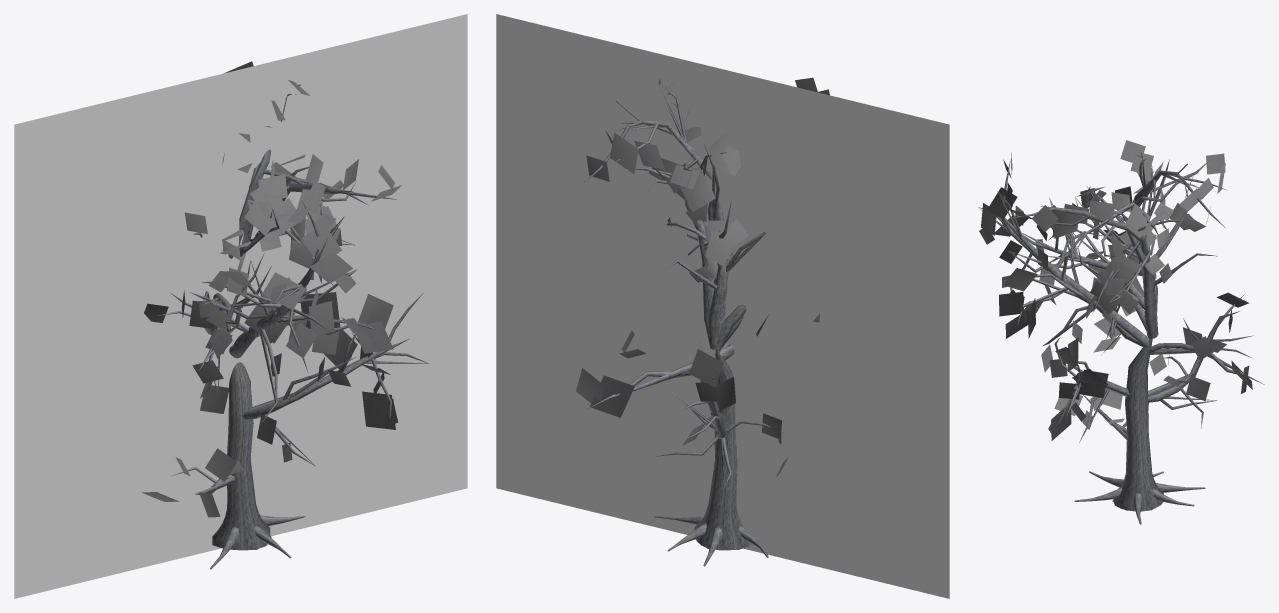
Rendered from corrompu_adulte_d.fbx.
The picture shows the model from 3 angles, left to right: view 1: azimuth 30°, elevation 25°; view 2: azimuth 150°, elevation 25°; view 3: azimuth 270°, elevation 25°; orthographic projection. The views are drawn at different scales.
Visible parts, largest first — view 1: corrompu_adulte_d_LOD3, corrompu_adulte_d_LOD1, corrompu_adulte_d_LOD2; view 2: corrompu_adulte_d_LOD3, corrompu_adulte_d_LOD1, corrompu_adulte_d_LOD2; view 3: corrompu_adulte_d_LOD1, corrompu_adulte_d_LOD2.
Part boxes in pixels (x1,y1,x2,y2): corrompu_adulte_d_LOD3: [14, 14, 467, 598]; corrompu_adulte_d_LOD1: [144, 80, 428, 569]; corrompu_adulte_d_LOD2: [141, 61, 429, 568]; corrompu_adulte_d_LOD3: [496, 14, 949, 598]; corrompu_adulte_d_LOD1: [581, 77, 829, 566]; corrompu_adulte_d_LOD2: [576, 81, 768, 566]; corrompu_adulte_d_LOD1: [979, 140, 1264, 524]; corrompu_adulte_d_LOD2: [978, 152, 1263, 524].
Size of what is drawn, in the model's own units: 19.26 by 19.26 by 12.55.
